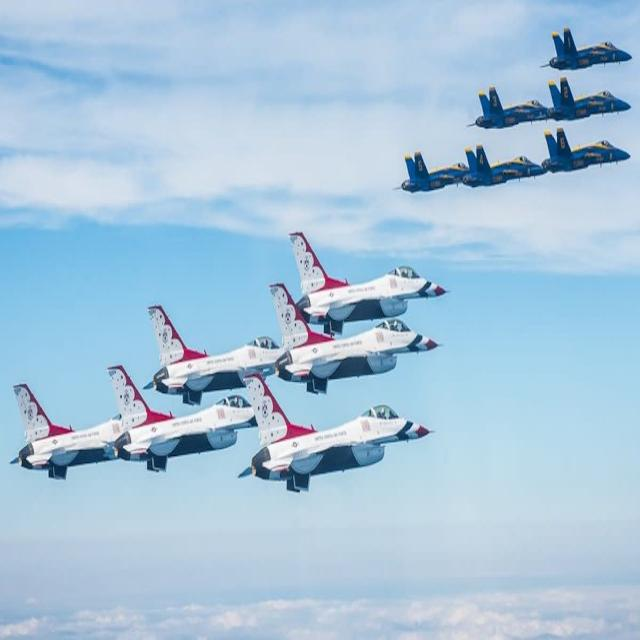MIL_Plane: (237, 373, 436, 494), (267, 282, 444, 396), (288, 229, 452, 337), (101, 365, 258, 473), (142, 305, 284, 406), (9, 383, 122, 480), (518, 126, 640, 175), (453, 143, 548, 189), (538, 27, 632, 71), (545, 76, 632, 122), (466, 85, 548, 129), (392, 149, 470, 195)
